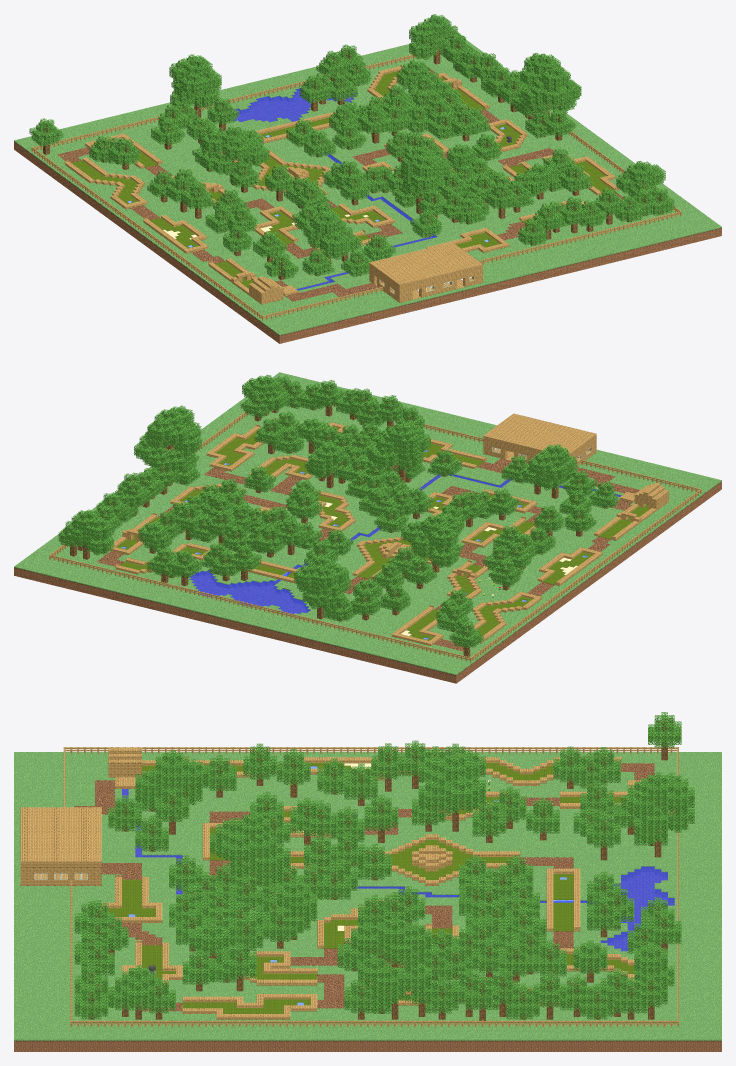
File: golf-escenario-lite.glb
The picture shows the model from 3 angles, top to bottom: view 1: azimuth 30°, elevation 25°; view 2: azimuth 150°, elevation 25°; view 3: azimuth 270°, elevation 25°; orthographic projection. The views are drawn at different scales.
Bounding box in the file's own units: 5.61 × 1 × 5.83.
Materials: 3 (3 with a texture image).
